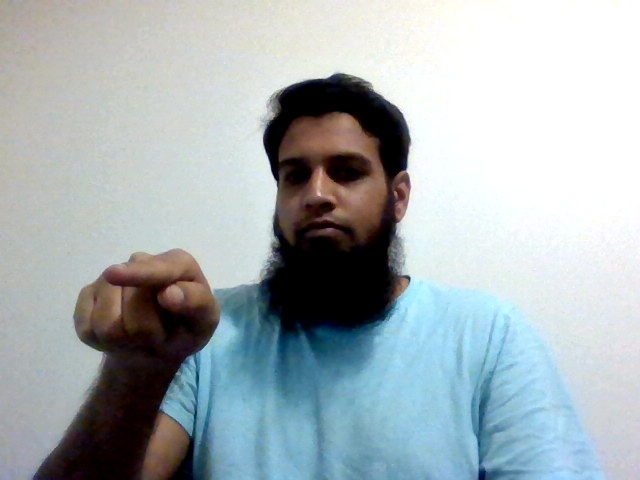you: (70, 246, 223, 368)
